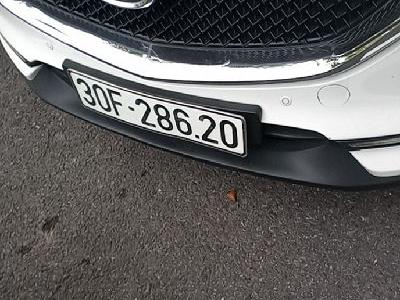lisence: (64, 68, 250, 159)
